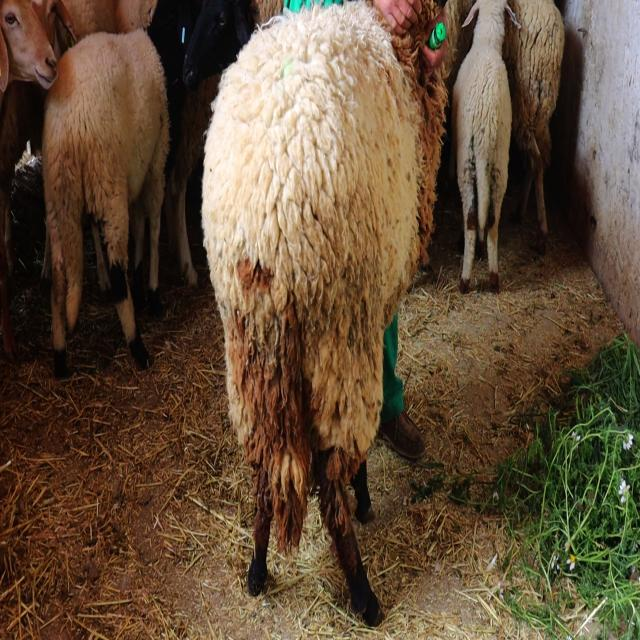Score_5: (202, 0, 446, 625)
